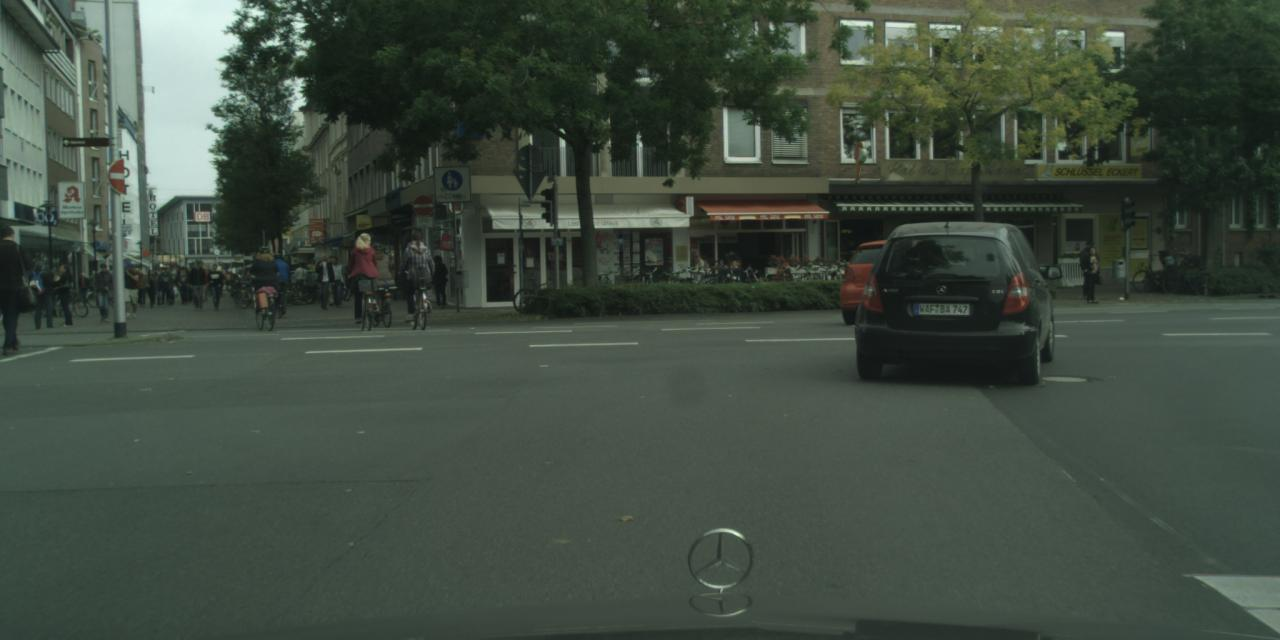ped: (0, 224, 32, 352), (401, 230, 435, 314), (348, 232, 382, 314), (250, 244, 280, 316), (364, 242, 393, 314), (28, 261, 55, 327), (52, 264, 78, 326), (91, 262, 116, 322), (1077, 240, 1101, 298), (118, 262, 141, 318), (312, 253, 334, 309), (1080, 246, 1102, 302), (267, 253, 289, 309), (428, 255, 449, 306), (687, 251, 707, 301), (325, 256, 344, 305), (189, 261, 208, 308), (206, 263, 224, 310)
